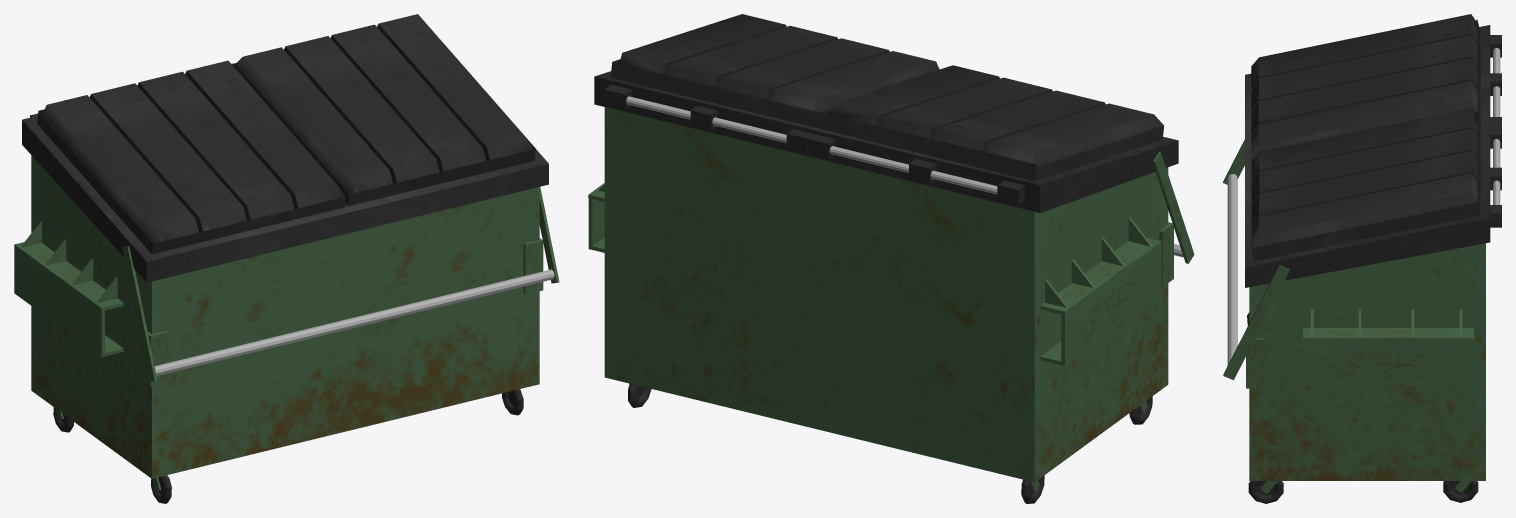
Rendered from M_3_dumpster.fbx.
The picture shows the model from 3 angles, left to right: view 1: azimuth 30°, elevation 25°; view 2: azimuth 150°, elevation 25°; view 3: azimuth 270°, elevation 25°; orthographic projection. The views are drawn at different scales.
Visible parts, largest first — view 1: pCube1, pCube20, pCylinder1, pCube28, pCube27, pCube19, pCube18, pCube6; view 2: pCube1, pCube20, pCube28, pCylinder2, pCube27, pCube19, pCube4; view 3: pCube1, pCube20, pCube4, pCube2, pCylinder1, pCube6, pCube8, pCylinder2, pTorus4, pTorus2, pCube19.
Part boxes in pixels (x1,y1,x2,y2): pCube1: (22,14,548,478); pCube20: (37,60,345,254); pCylinder1: (154,269,554,375); pCube28: (14,248,104,356); pCube27: (14,242,123,311); pCube19: (122,246,157,381); pCube18: (147,331,167,386); pCube6: (539,187,559,283); pCube1: (594,14,1178,482); pCube20: (827,65,1164,180); pCube28: (1061,245,1161,365); pCylinder2: (626,96,997,194); pCube27: (1040,237,1161,315); pCube19: (1153,152,1194,263); pCube4: (588,195,604,249); pCube1: (1245,19,1490,480); pCube20: (1251,14,1477,158); pCube4: (1303,341,1473,385); pCube2: (1303,328,1473,340); pCylinder1: (1227,174,1237,365); pCube6: (1223,265,1289,380); pCube8: (1246,338,1265,388); pCylinder2: (1493,48,1500,204); pTorus4: (1248,481,1283,503); pTorus2: (1443,481,1478,502); pCube19: (1223,139,1244,184).
Bounding box in the file's own units: 15.18 × 10.91 × 8.66.
1 material, 1 textured.
